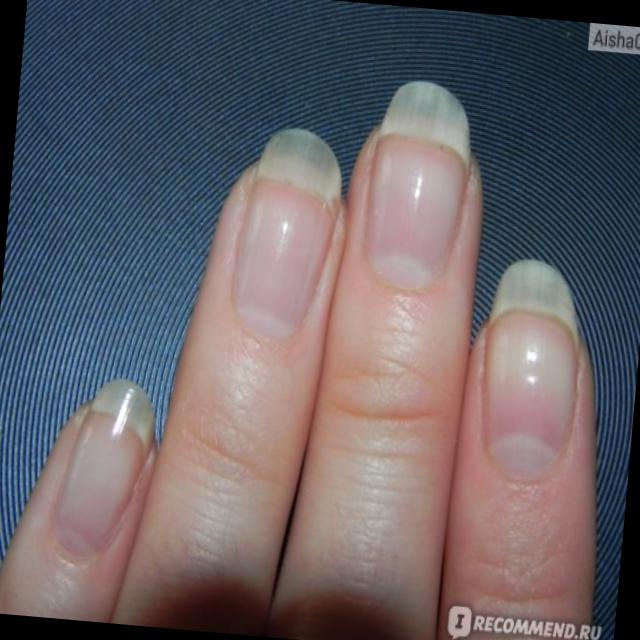Nail: (234, 130, 341, 339), (364, 81, 471, 288), (479, 260, 577, 480), (52, 380, 155, 556)
